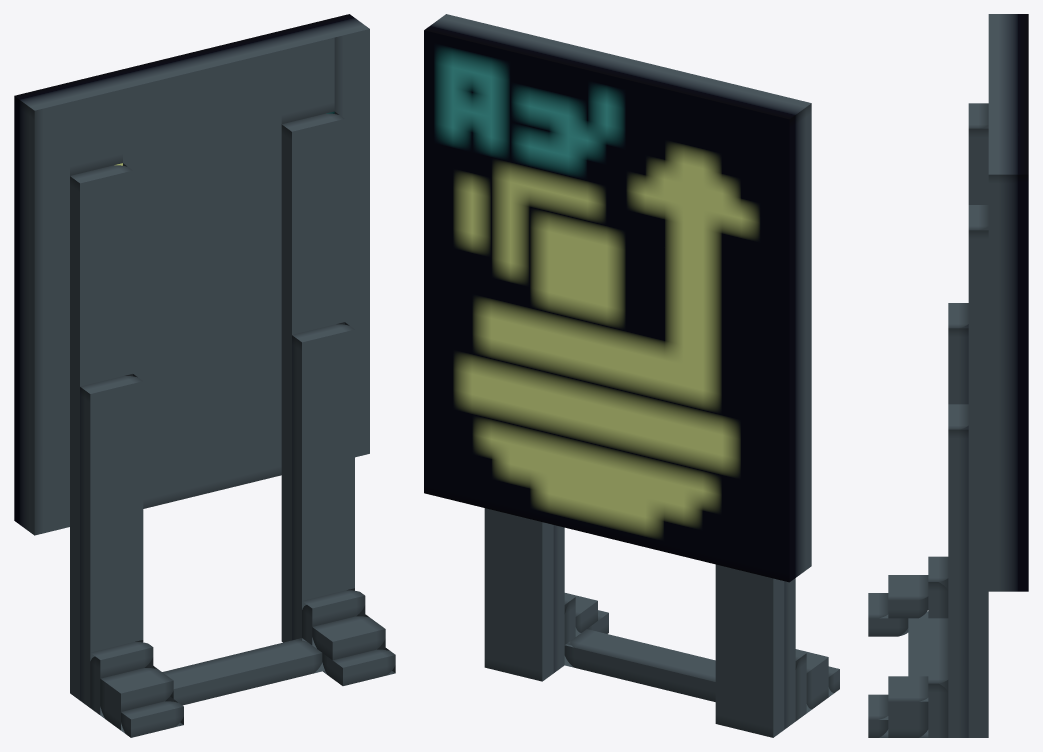
File: reklama_neo_5.dae
The picture shows the model from 3 angles, left to right: view 1: azimuth 30°, elevation 25°; view 2: azimuth 150°, elevation 25°; view 3: azimuth 270°, elevation 25°; orthographic projection. The views are drawn at different scales.
Visible parts, largest first — view 1: Content; view 2: Content; view 3: Content.
Boxes of the visible parts, x1,y1,x2,y2 form: Content: (14, 14, 395, 737); Content: (424, 14, 839, 737); Content: (868, 14, 1028, 737).
Size of the model in its own units: 19 by 32 by 8.
Materials: 1 (1 with a texture image).
